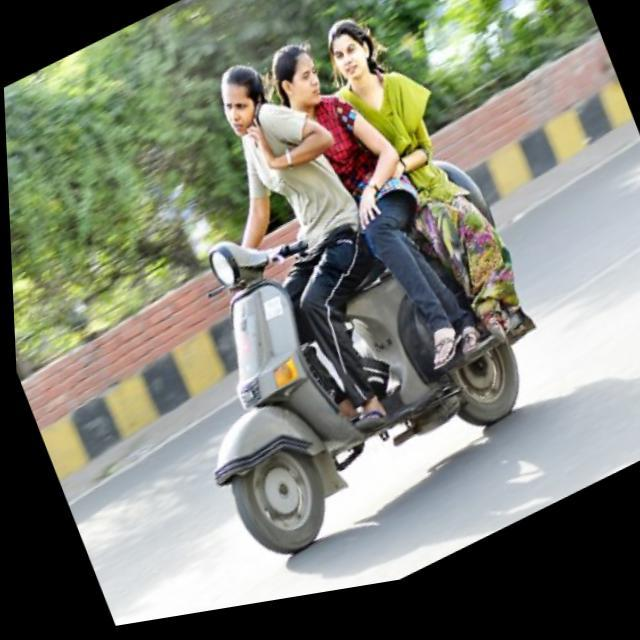Nonhelmet: (204, 63, 274, 148), (267, 28, 330, 116), (318, 10, 382, 95)
